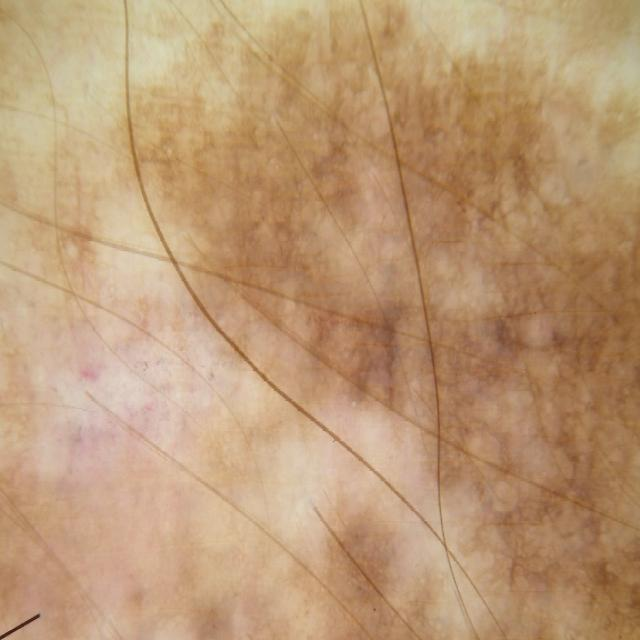Melanoma: (146, 102, 611, 640)
